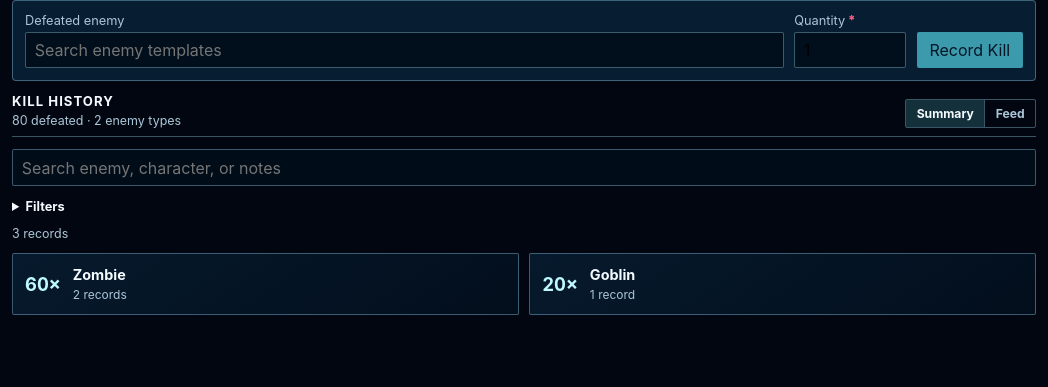
SheetKillsSection player recording › defaults to a grouped summary and can switch to the chronological feed
Expected: the number of elements with class "sheet-kill-summary-card" is 2, x1=12 y1=253 x2=519 y2=315; x1=529 y1=253 x2=1036 y2=315
Click the button "Feed": {"x": 1010, "y": 114} x1=984 y1=100 x2=1035 y2=127
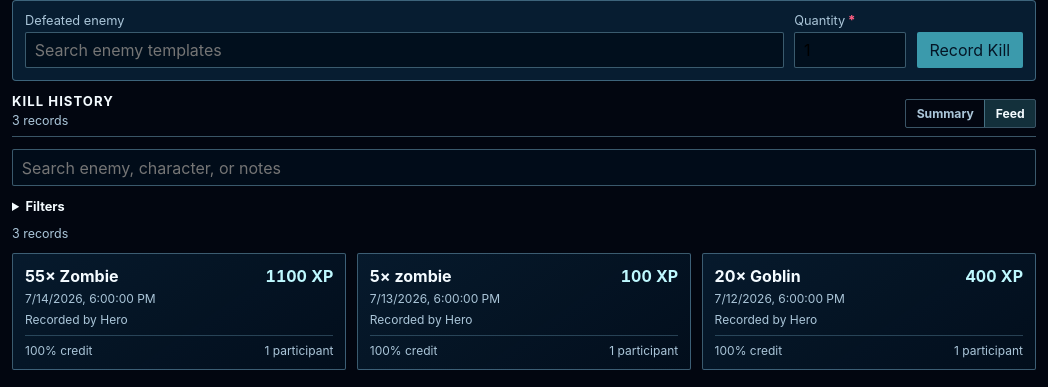
Expected: the number of elements with class "sheet-kill-card" is 3, x1=12 y1=253 x2=346 y2=370; x1=357 y1=253 x2=691 y2=370; x1=702 y1=253 x2=1036 y2=370
Expected: the text "55× Zombie" is shown, x1=25 y1=266 x2=119 y2=286
Expected: the text "1100 XP" is shown, x1=266 y1=266 x2=333 y2=286
